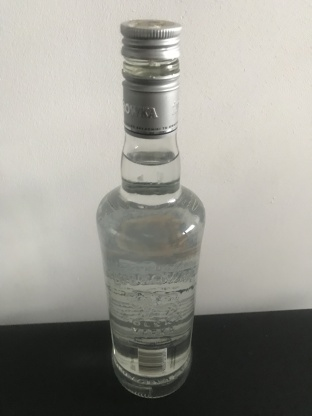nakretka: (118, 16, 183, 139)
